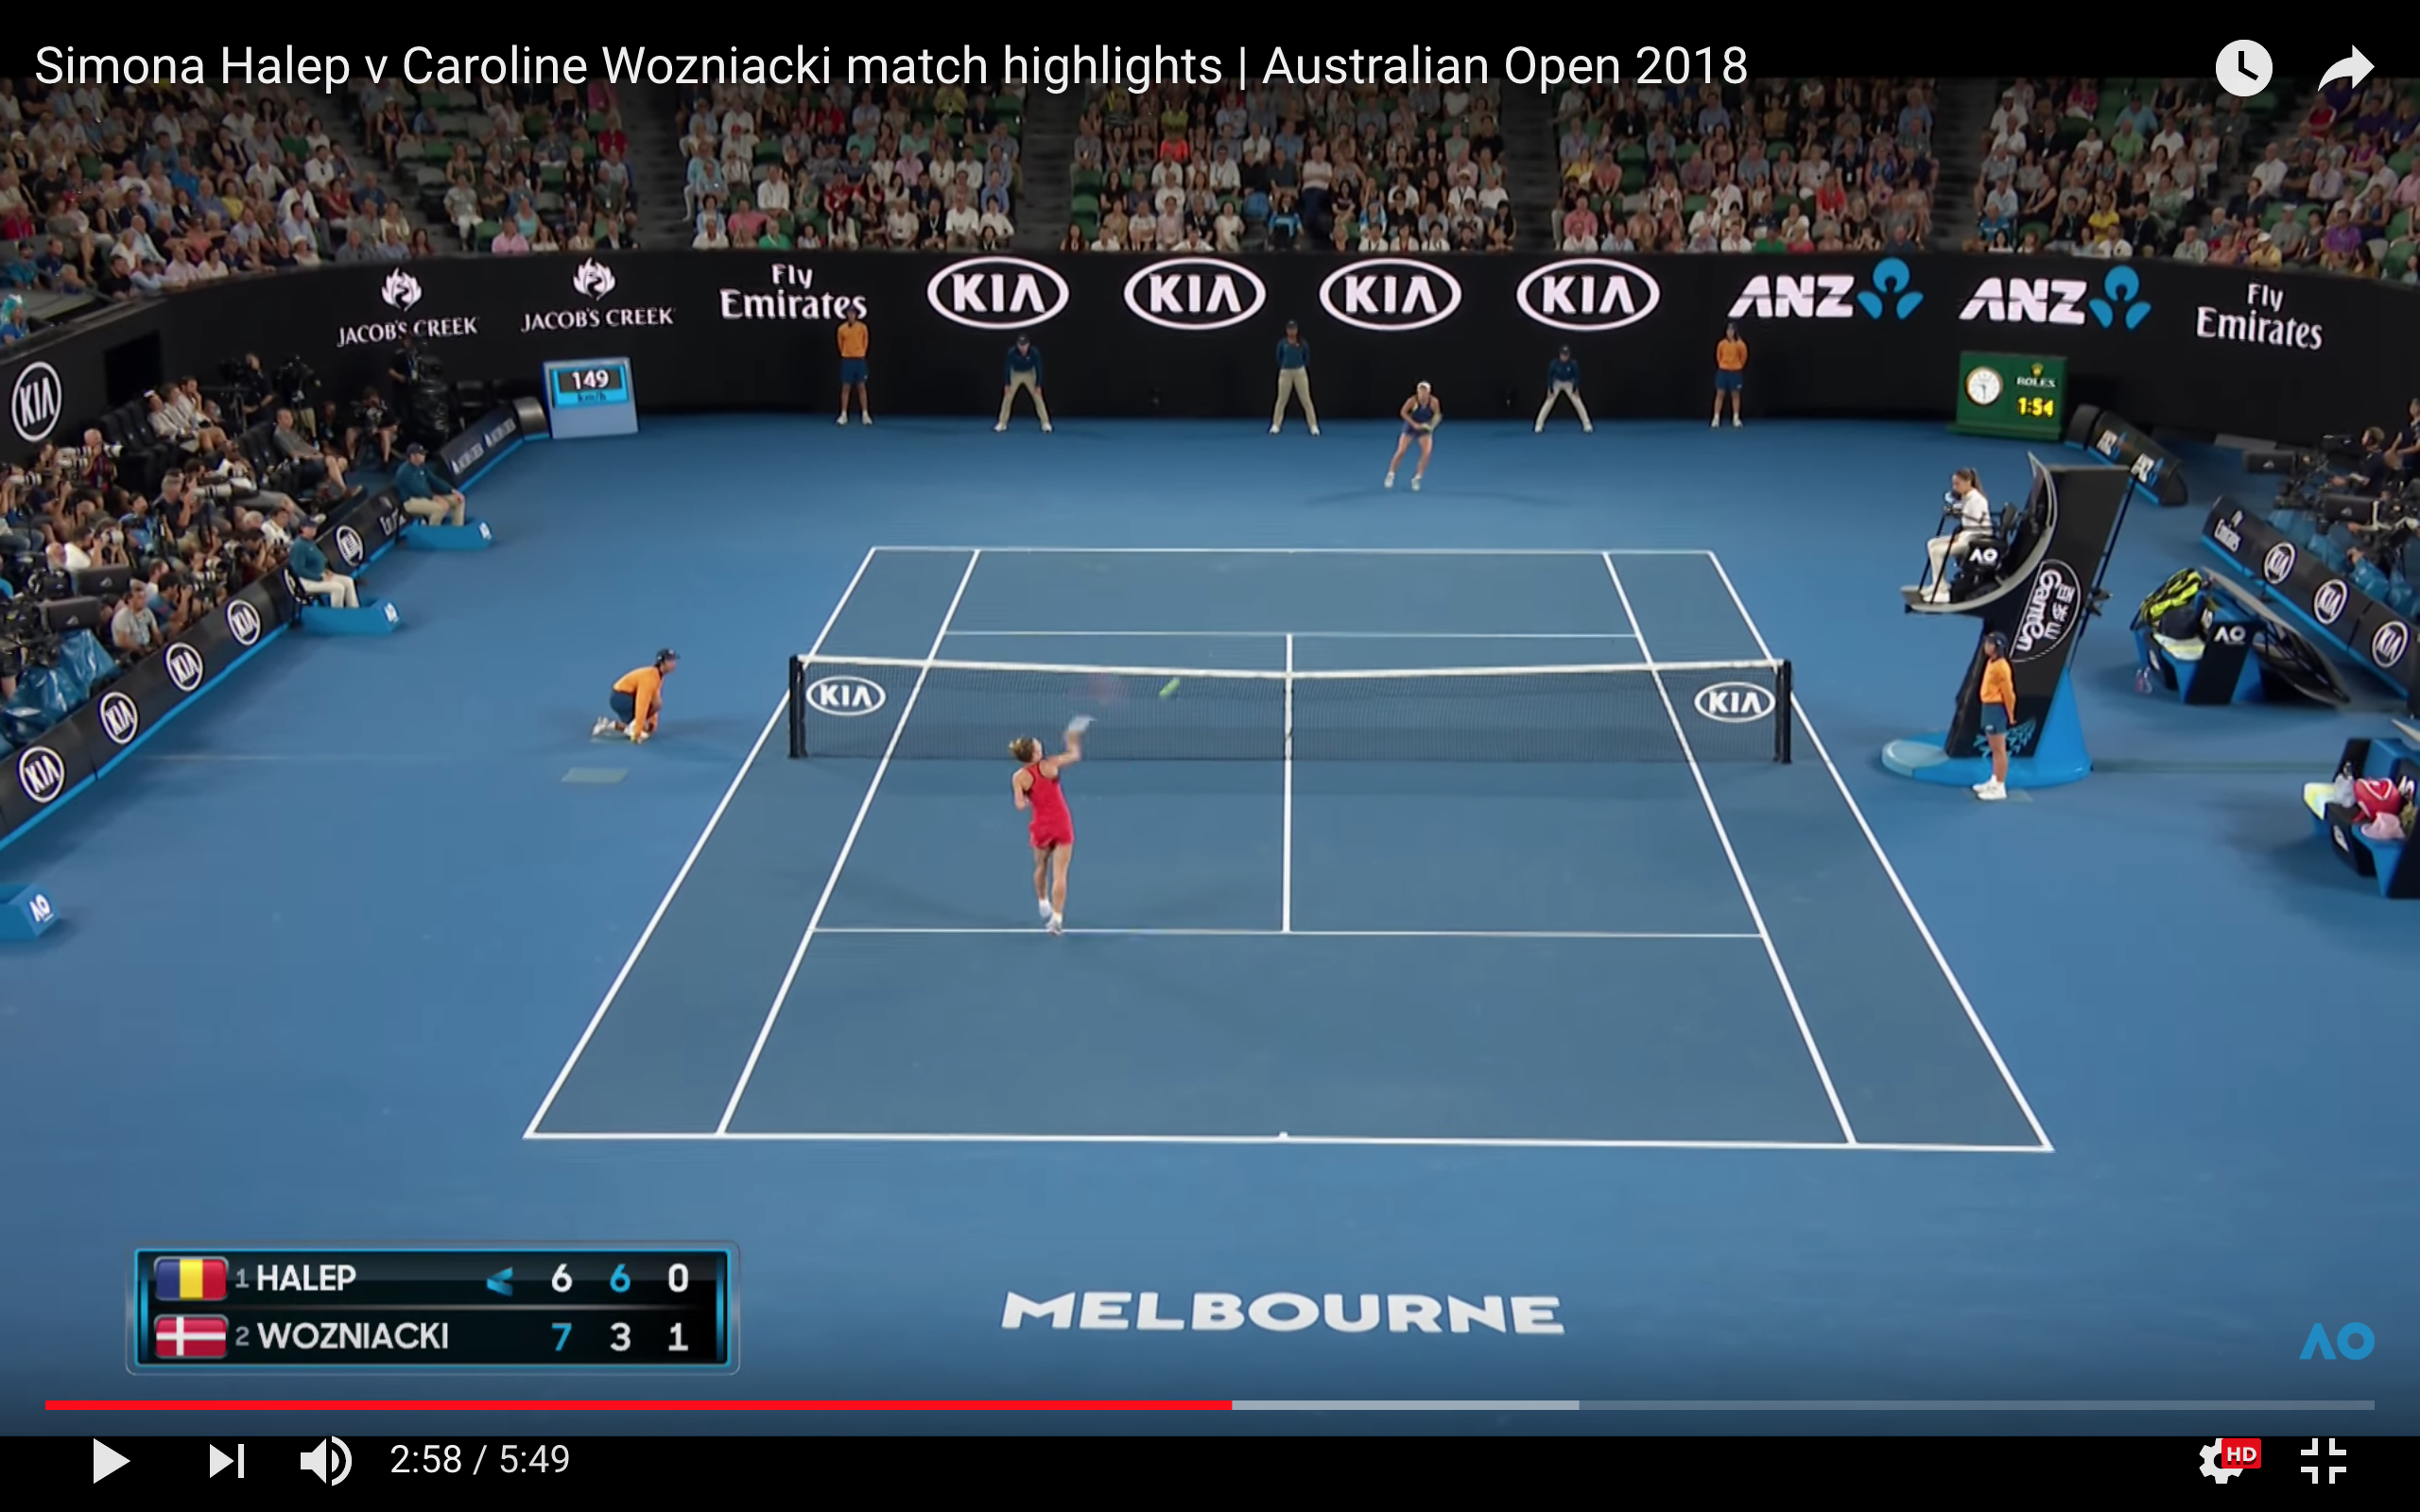tennis ball: (1148, 675, 1195, 708)
tennis player: (986, 710, 1116, 936), (1375, 377, 1455, 499)
